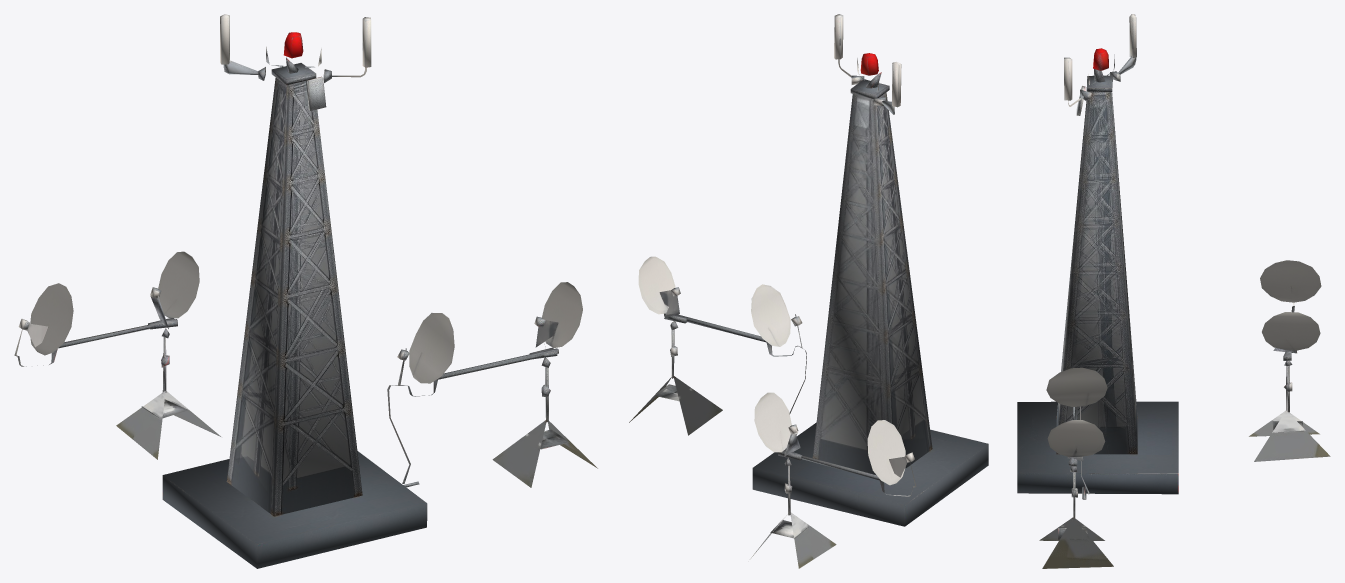
Rendered from antenna_cluster.glb.
3 views of the same model, side by side, from view 1: azimuth 30°, elevation 25°; view 2: azimuth 150°, elevation 25°; view 3: azimuth 270°, elevation 25° (orthographic). The views are drawn at different scales.
Size of the model in its own units: 4.6 by 5 by 3.36.
1 material, 1 textured.
